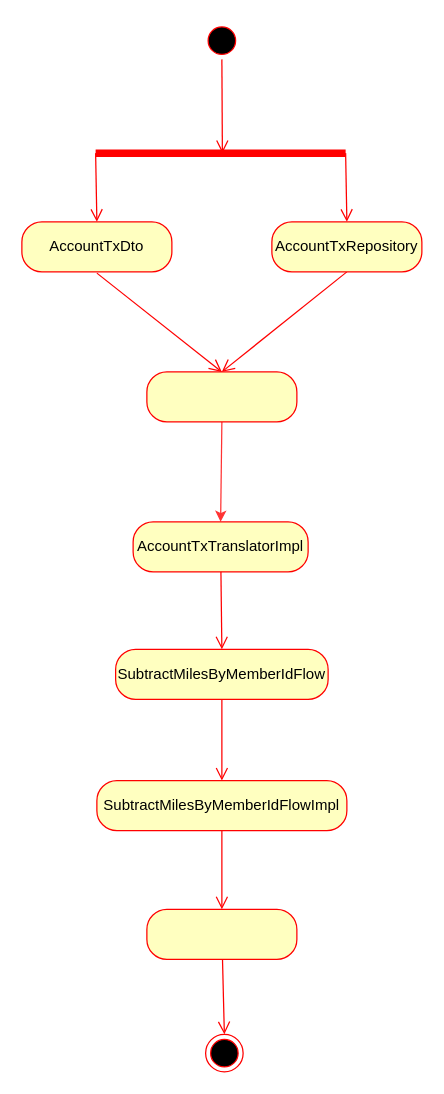
The diagram is 444 pixels wide and 1094 high, and some of its shapes have lost their labels. Each missing label, with the centre of its shape:
"AccountTxController" belongs at pixel 221 933.
"AccountTxTranslator" belongs at pixel 221 396.
